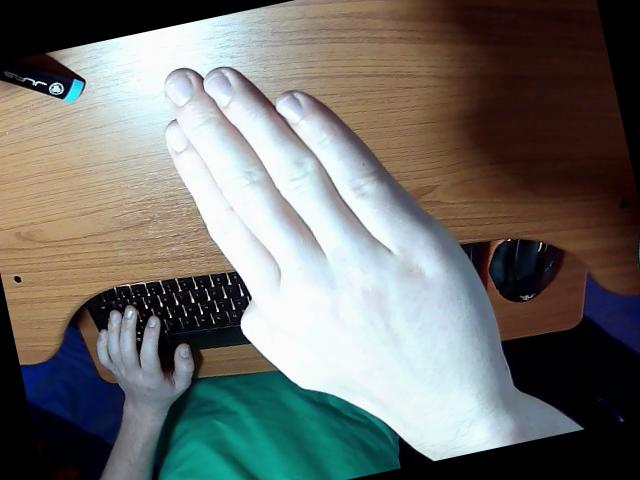paper: (165, 68, 577, 459)
